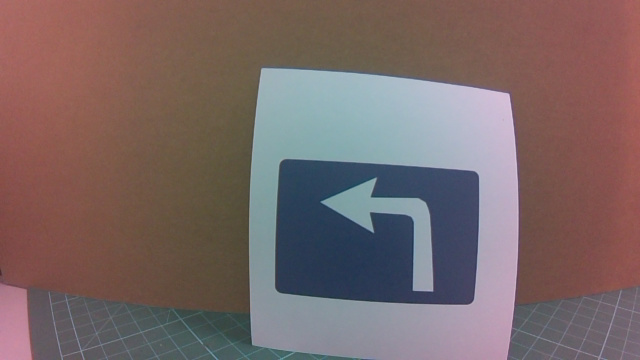left: (301, 147, 486, 315)
